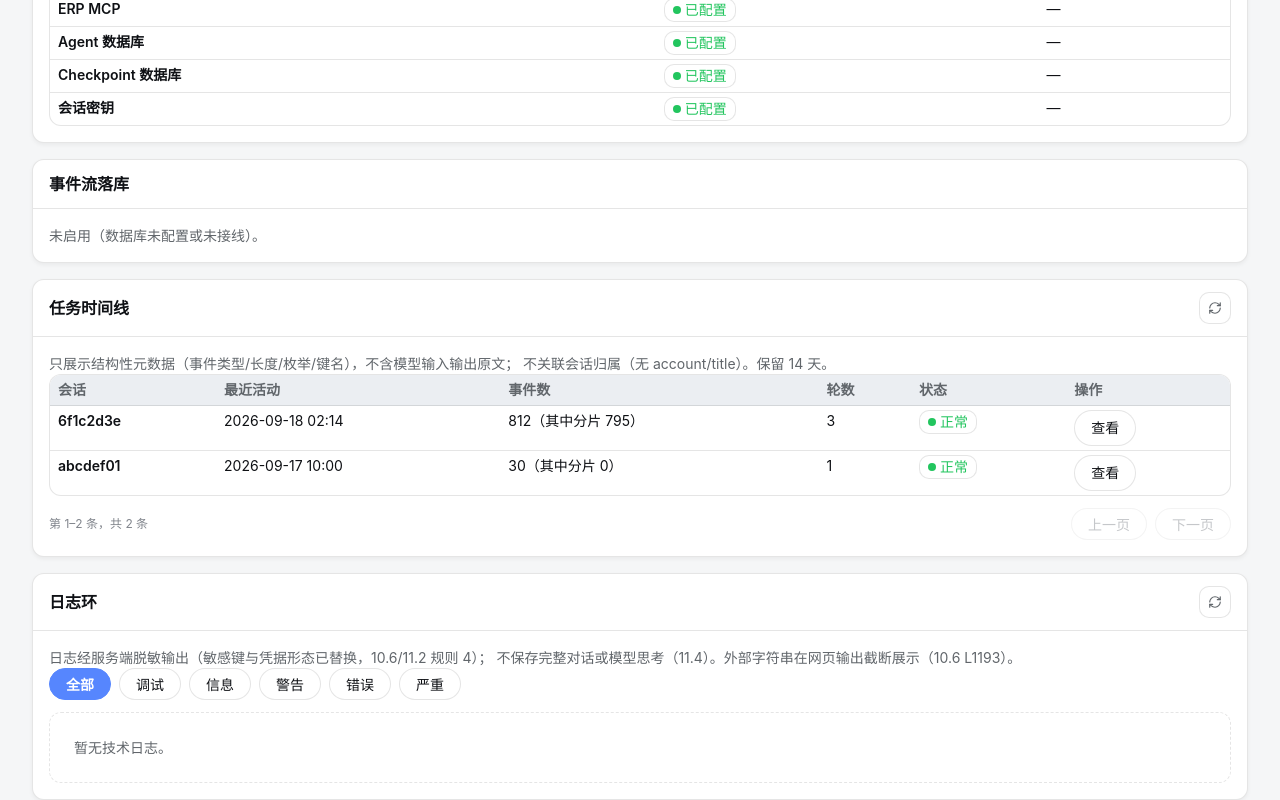
Test case: StreamTimelinePanel 任务时间线 › 30 未知事件类型渲染 FALLBACK，原串不上屏
(page scrolled)
Click the button "查看" in the row of "6f1c2d3e" at [1105, 428], box [1074,410,1136,446]
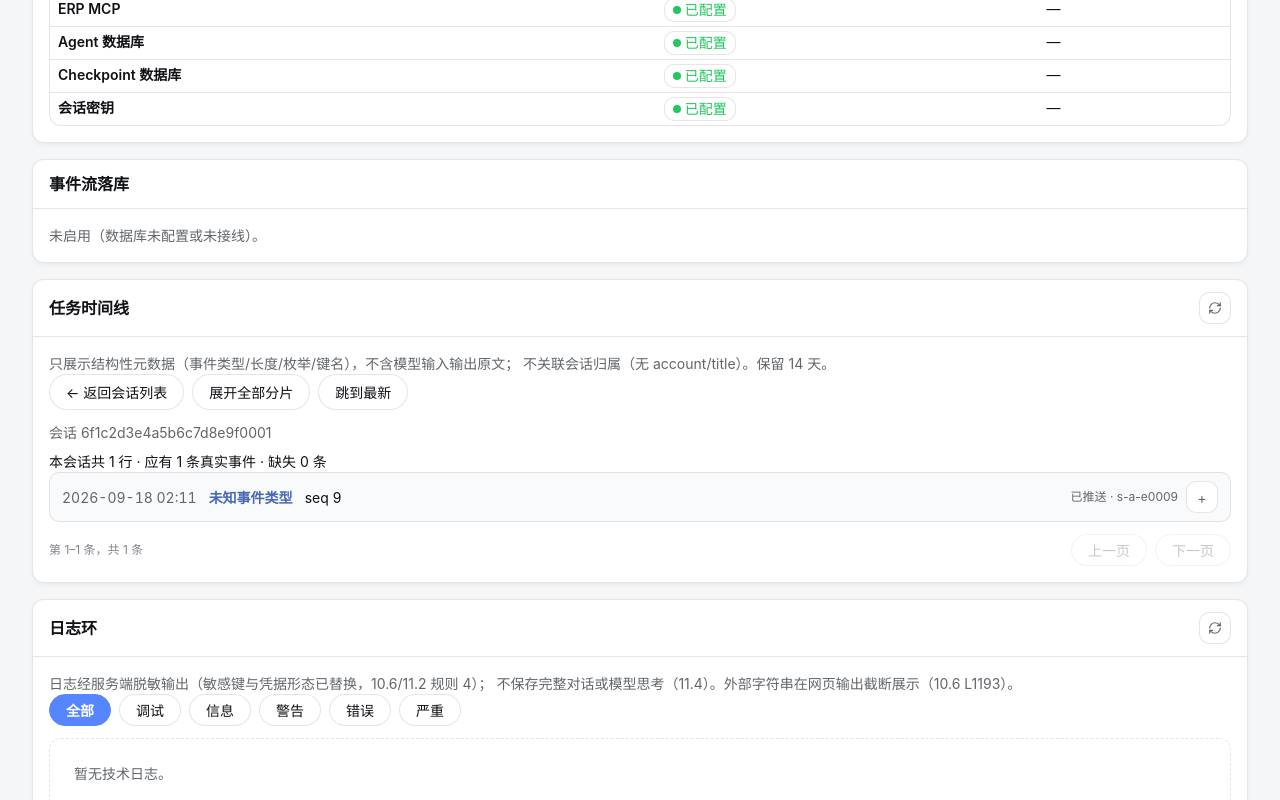
Expected: the button "← 返回会话列表" is shown, [49,374,184,410]
Expected: the text "未知事件类型" is shown, [205,486,297,508]
